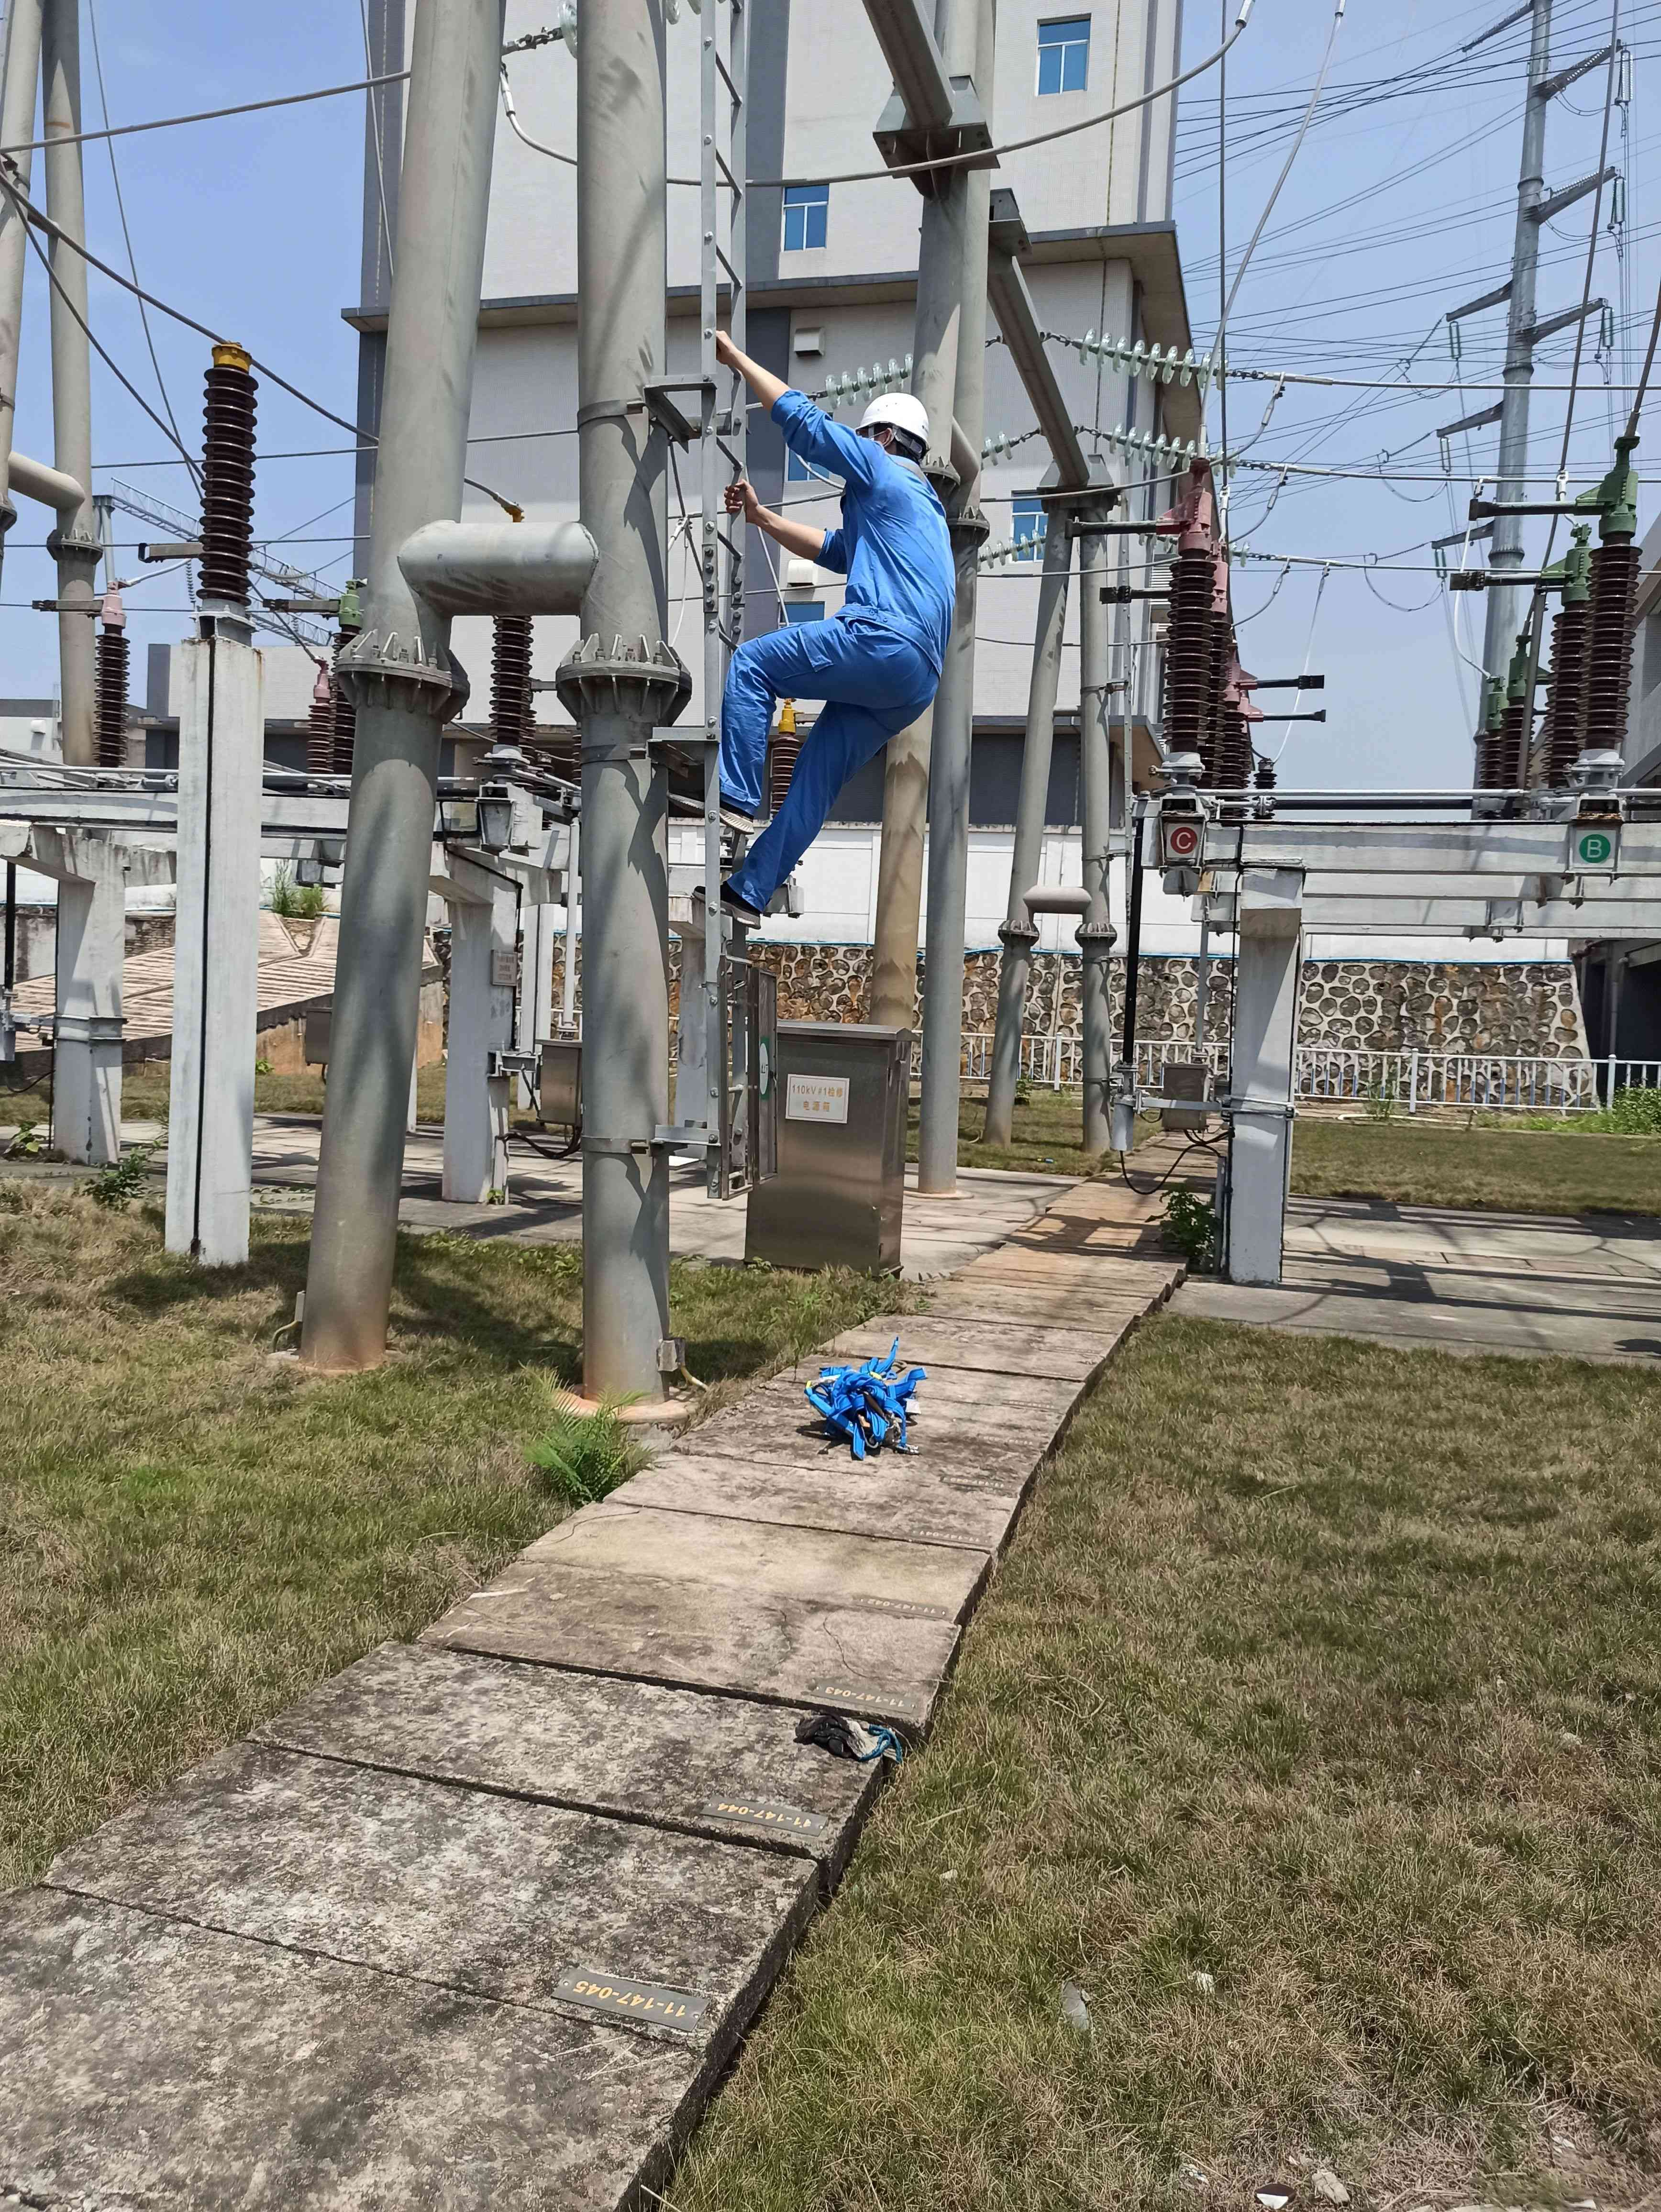downsuit: (714, 621, 935, 904)
upsuit: (766, 384, 963, 673)
wrongtop: (722, 474, 836, 567), (705, 326, 806, 419)
